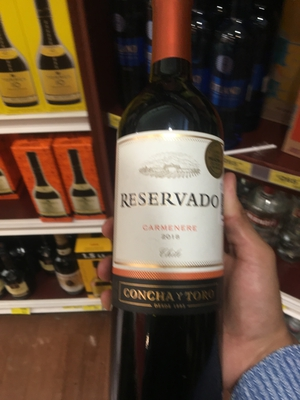reservado carmenere: (96, 12, 250, 397)
